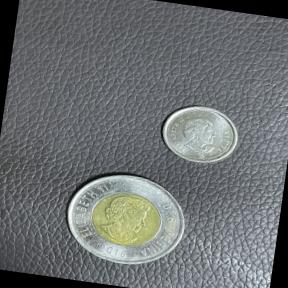Canada-10cent-B: (152, 96, 248, 172)
Canada-2Dollar-B: (50, 162, 196, 277)
